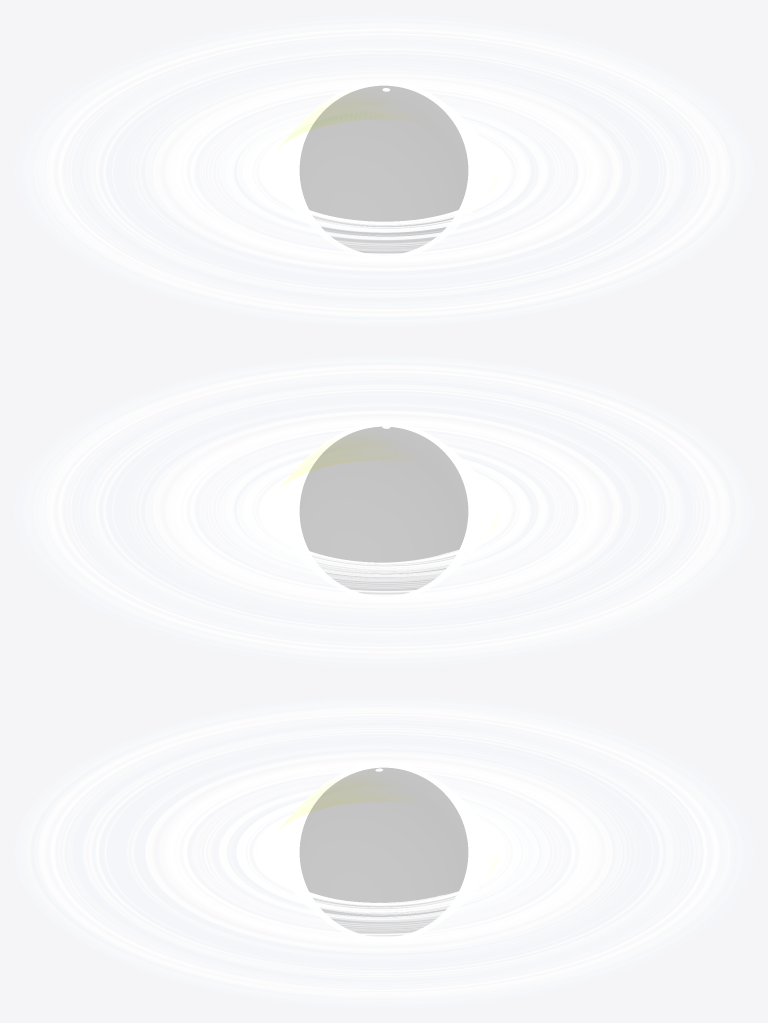
3 renders of one model, top to bottom at view 1: azimuth 30°, elevation 25°; view 2: azimuth 150°, elevation 25°; view 3: azimuth 270°, elevation 25°, orthographic.
Parts seen in each view (by area): view 1: Disc1, Disc3, Disc2, Singularity; view 2: Disc1, Disc3, Disc2, Singularity; view 3: Disc1, Disc3, Disc2, Singularity.
Part boxes in pixels (bbox=[...]): Disc1: bbox=[25, 19, 741, 321]; Disc3: bbox=[33, 23, 739, 320]; Disc2: bbox=[35, 25, 737, 320]; Singularity: bbox=[300, 86, 467, 252]; Disc1: bbox=[25, 360, 742, 662]; Disc3: bbox=[33, 361, 739, 658]; Disc2: bbox=[35, 361, 737, 657]; Singularity: bbox=[300, 427, 467, 590]; Disc1: bbox=[26, 701, 742, 1003]; Disc3: bbox=[26, 704, 732, 1000]; Disc2: bbox=[28, 704, 730, 1000]; Singularity: bbox=[300, 768, 467, 932].
Size of the model in its own units: 2 by 0.4927 by 2.
2 materials, 1 textured.
